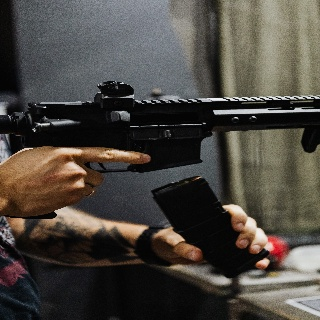rifle: (1, 79, 320, 279)
